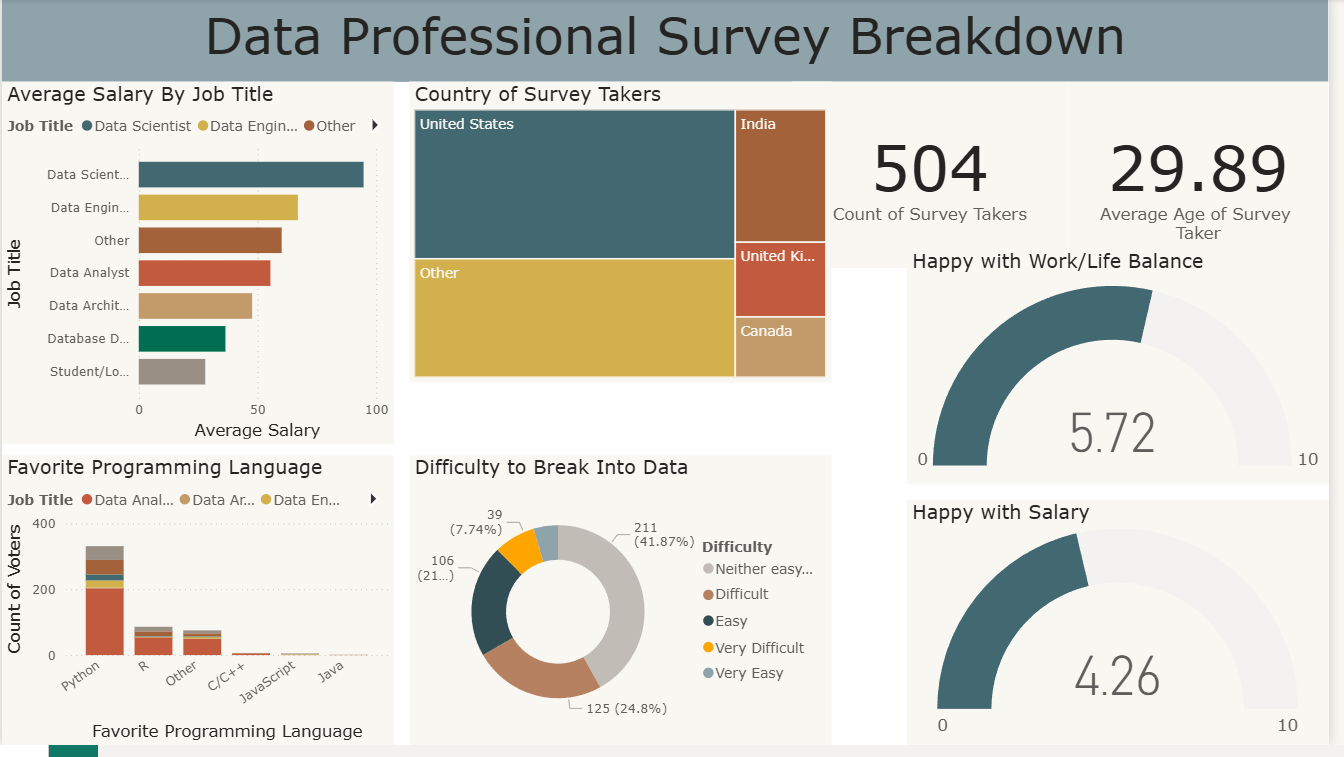

Layout of this report page (visuals, bound fields, positions):
{"tool":"powerbi","page":{"name":"Page 1","canvas":[1280,720],"ordinal":0},"visuals":[{"type":"textbox","box":[0,0,1280.3,80],"z":0},{"type":"card","fields":{"Values":["Count(Data Professional Survey.Unique ID)"]},"box":[763,79.6,266.2,179.8],"z":1000},{"type":"card","fields":{"Values":["Avg(Data Professional Survey.Q10 - Current Age)"]},"box":[1029.2,79.6,251.1,179.8],"z":2000},{"type":"barChart","title":"Average Salary By Job Title","fields":{"Category":["Data Professional Survey.Q1 - Which Title Best Fits your Current Role?.1"],"Y":["Avg(Data Professional Survey.Average Salary)"],"Series":["Data Professional Survey.Q1 - Which Title Best Fits your Current Role?.1"]},"box":[0,80,378.4,349.9],"z":3000},{"type":"columnChart","title":"Favorite Programming Language","fields":{"Category":["Data Professional Survey.Q5 - Favorite Programming Language.1"],"Y":["CountNonNull(Data Professional Survey.Unique ID)"],"Series":["Data Professional Survey.Q1 - Which Title Best Fits your Current Role?.1"]},"box":[0,440,378,280],"z":3001},{"type":"treemap","title":"Country of Survey Takers","fields":{"Group":["Data Professional Survey.Q11 - Which Country do you live in?.1"],"Values":["CountNonNull(Data Professional Survey.Q11 - Which Country do you live in?.1)"]},"box":[393.4,79.5,407.1,290.6],"z":3002},{"type":"gauge","title":"Happy with Work/Life Balance","fields":{"Y":["Avg(Data Professional Survey.Q6 - How Happy are you in your Current Position with the following? (Work/Life Balance))"],"MinValue":["Min(Data Professional Survey.Q6 - How Happy are you in your Current Position with the following? (Work/Life Balance))1"],"MaxValue":["Max(Data Professional Survey.Q6 - How Happy are you in your Current Position with the following? (Work/Life Balance))2"]},"box":[873.2,241.3,407.1,227.5],"z":3003},{"type":"gauge","title":"Happy with Salary","fields":{"Y":["Avg(Data Professional Survey.Q6 - How Happy are you in your Current Position with the following? (Salary))"],"MinValue":["Min(Data Professional Survey.Q6 - How Happy are you in your Current Position with the following? (Salary))"],"MaxValue":["Max(Data Professional Survey.Q6 - How Happy are you in your Current Position with the following? (Salary))"]},"box":[873.2,483.9,407.1,235.8],"z":3004},{"type":"donutChart","title":"Difficulty to Break Into Data","fields":{"Category":["Data Professional Survey.Q7 - How difficult was it for you to break into Data?"],"Y":["CountNonNull(Data Professional Survey.Q7 - How difficult was it for you to break into Data?)"]},"box":[393,440,407,280],"z":3005}]}

Visuals, with their boxes in screenshot pixels (x1, y1, x2, y2), scaled from the page's 1280x720 canvas onto the 1344x757 screenshot:
textbox: bbox=[0, 0, 1343, 84]
card - Count(Data Professional Survey.Unique ID): bbox=[801, 84, 1081, 273]
card - Avg(Data Professional Survey.Q10 - Current Age): bbox=[1081, 84, 1343, 273]
"Average Salary By Job Title" barChart: bbox=[0, 84, 397, 452]
"Favorite Programming Language" columnChart: bbox=[0, 463, 397, 756]
"Country of Survey Takers" treemap: bbox=[413, 84, 841, 389]
"Happy with Work/Life Balance" gauge: bbox=[917, 254, 1343, 493]
"Happy with Salary" gauge: bbox=[917, 509, 1343, 756]
"Difficulty to Break Into Data" donutChart: bbox=[413, 463, 840, 756]
